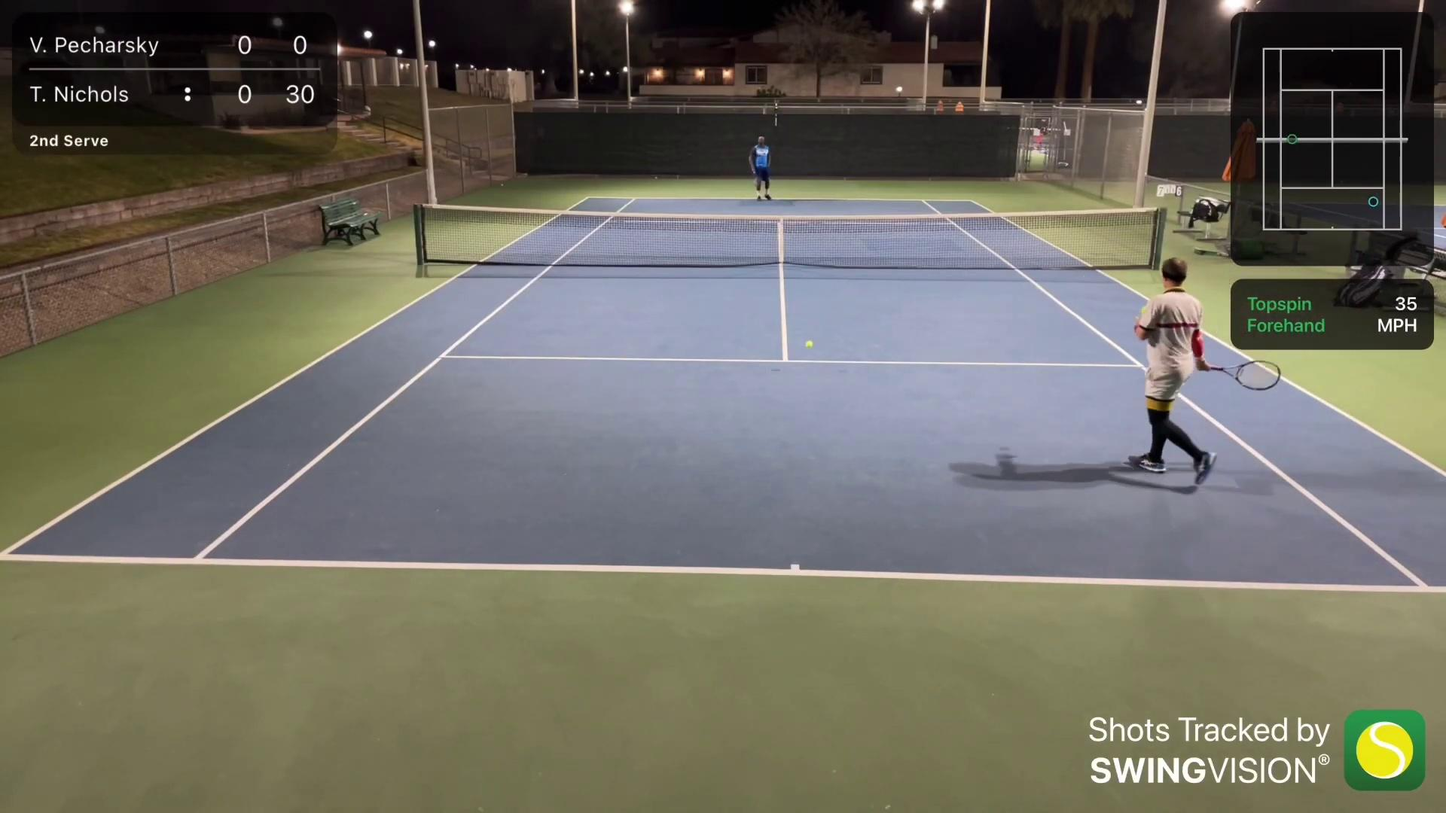ball: (803, 338, 816, 351)
